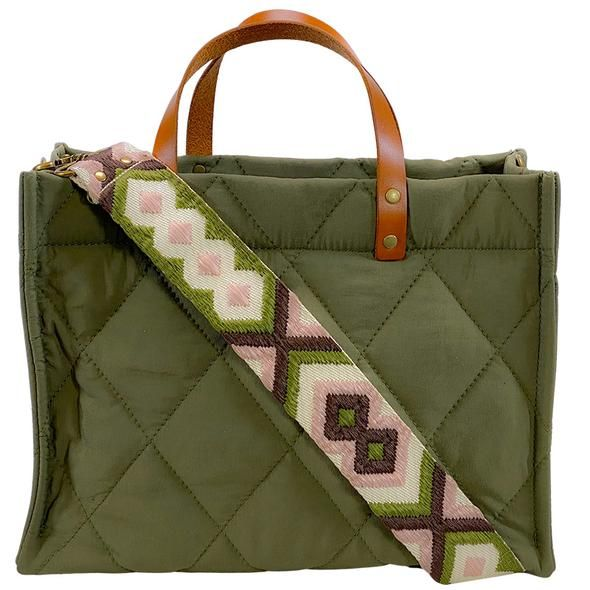nylon: (15, 145, 562, 584)
